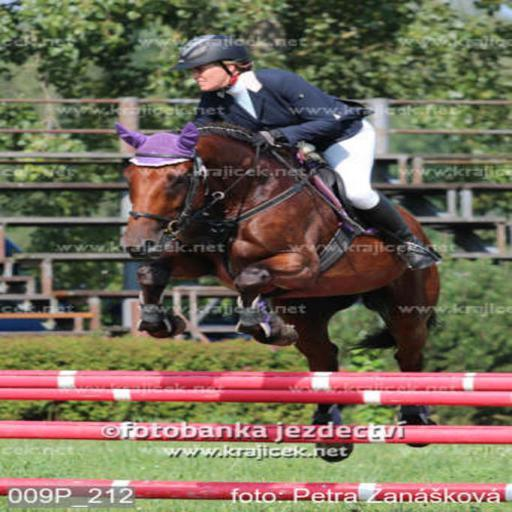Horse: (112, 124, 440, 463)
